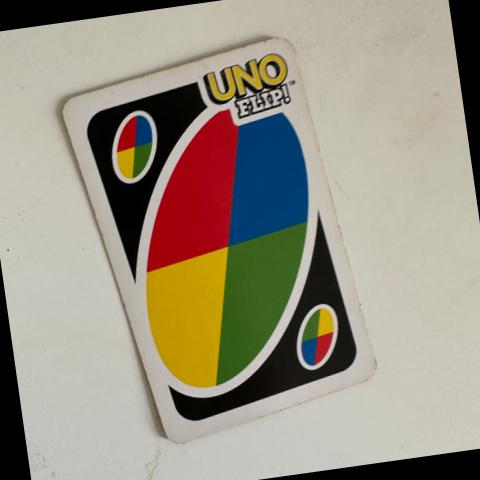draw2_red: (111, 111, 159, 185), (296, 304, 339, 374)
